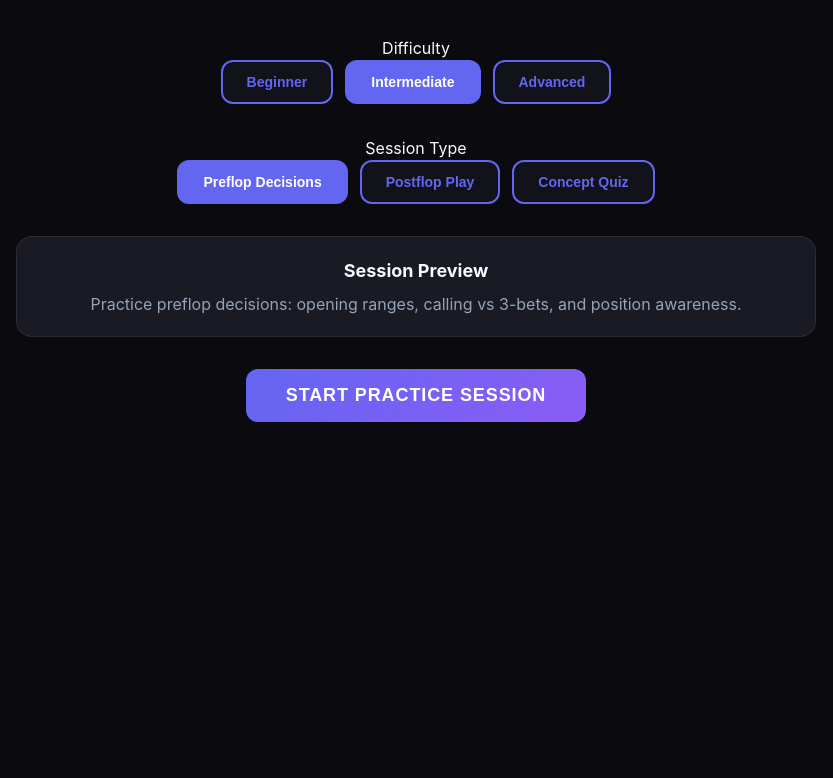
Test case: PracticeSession › Active Session — Preflop Scenario › should advance to next question
The image size is (833, 778).
Click the button "Start Practice Session": (416, 396) [246,369,586,422]
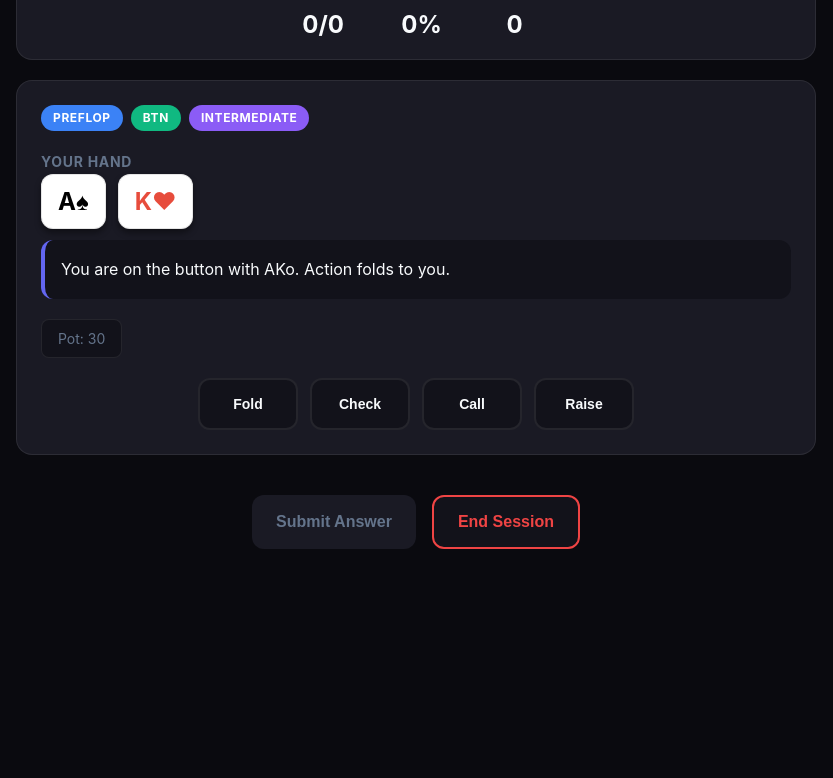
Click the button "Raise": (584, 404) [534,378,634,430]
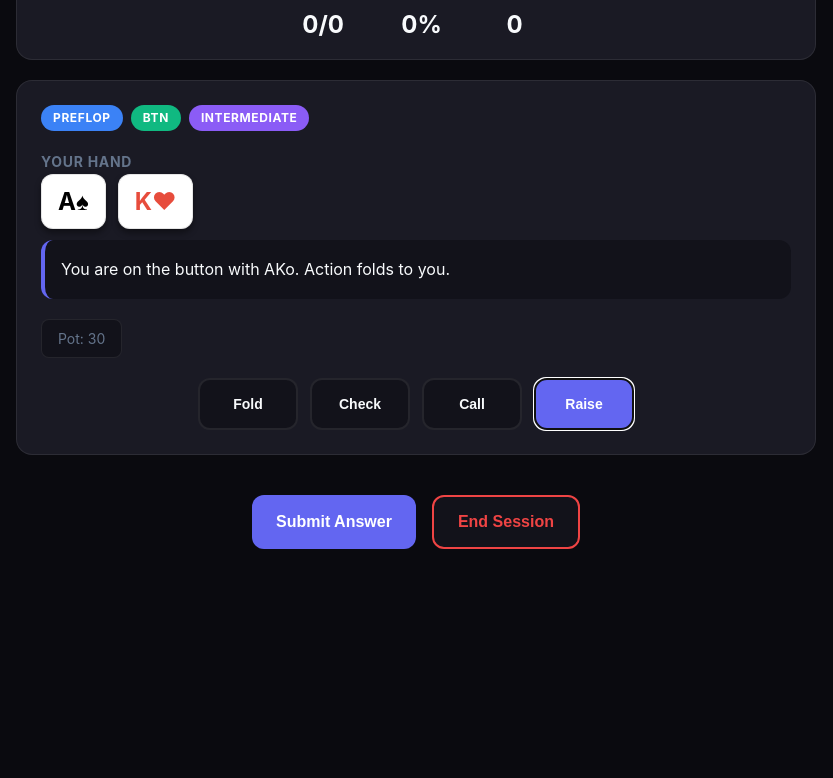
Click the button "Submit Answer": (334, 522) [252,495,416,549]
(page scrolled)
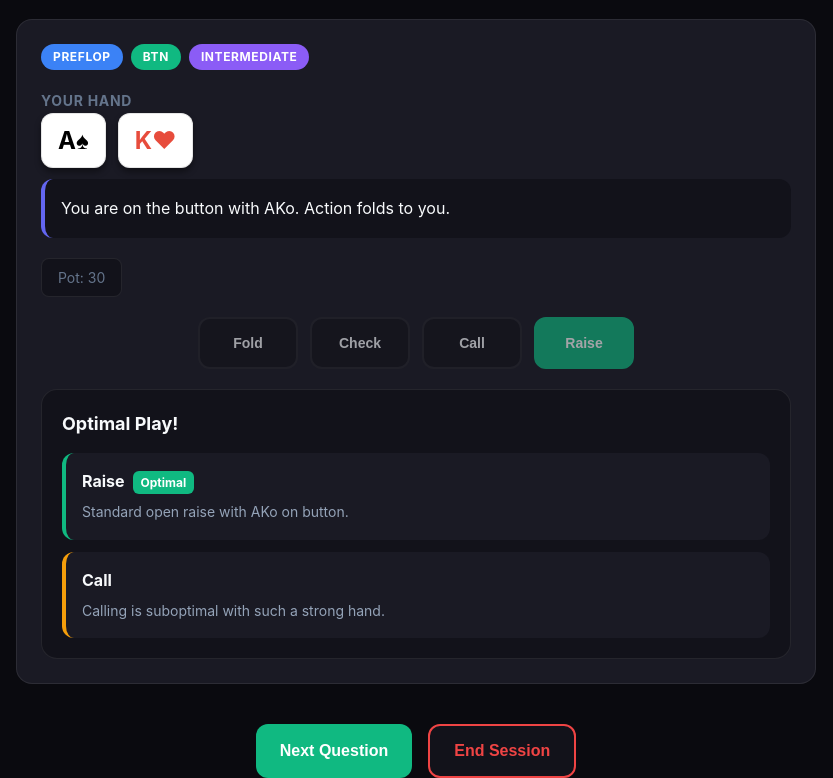
Click the button "Next Question": (334, 751) [256,724,412,777]
(page scrolled)
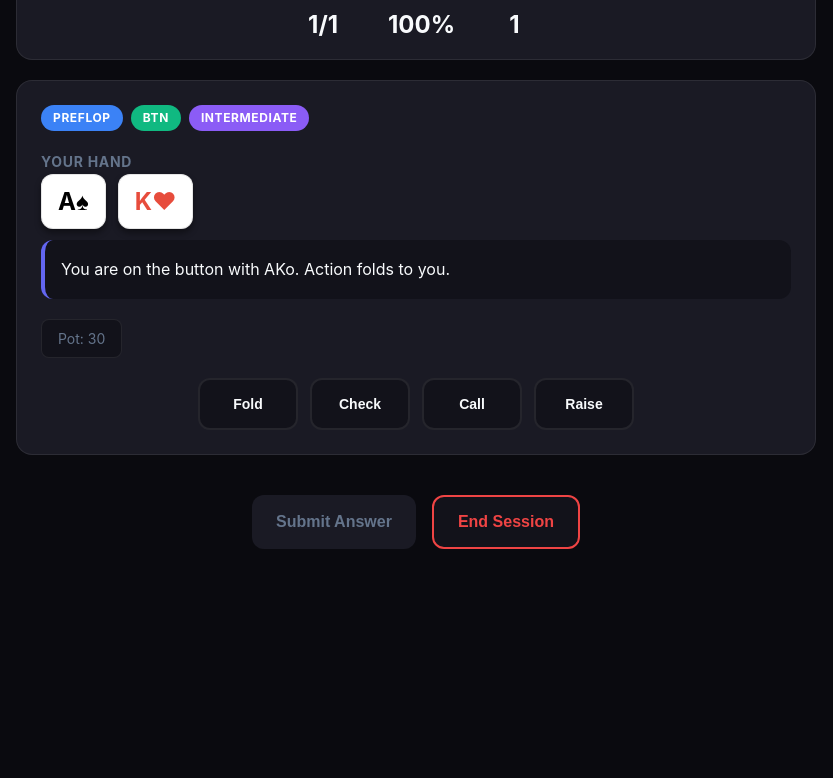
Expected: the button "Submit Answer" is shown, [252,495,416,549]
